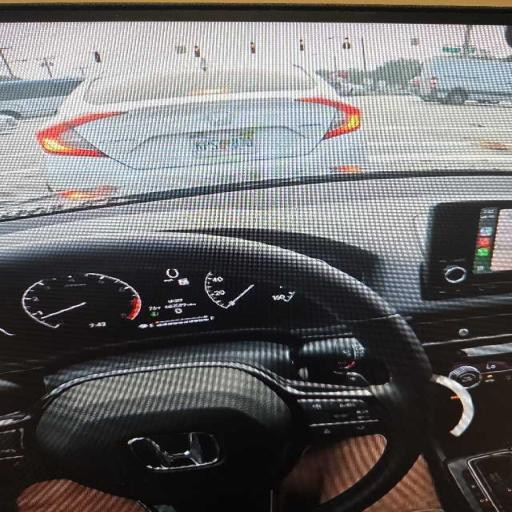car: (0, 5, 511, 511), (37, 66, 366, 192), (410, 56, 511, 105), (0, 79, 82, 119)
lane: (350, 96, 511, 169)
